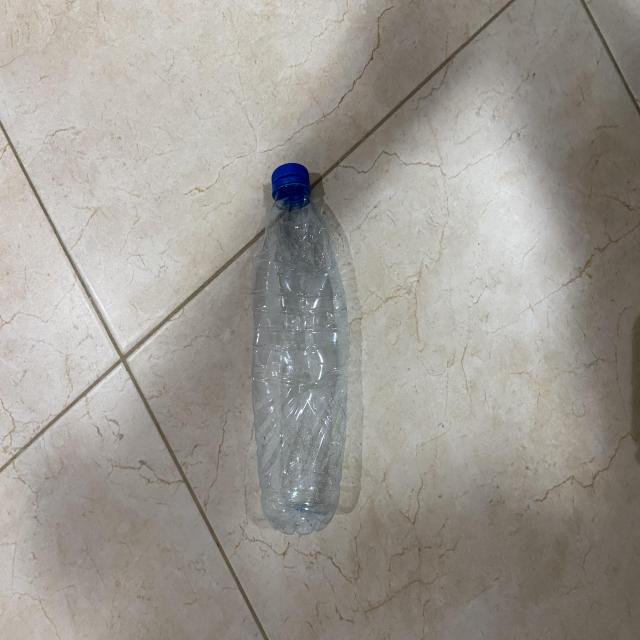plastic: (249, 158, 347, 534)
